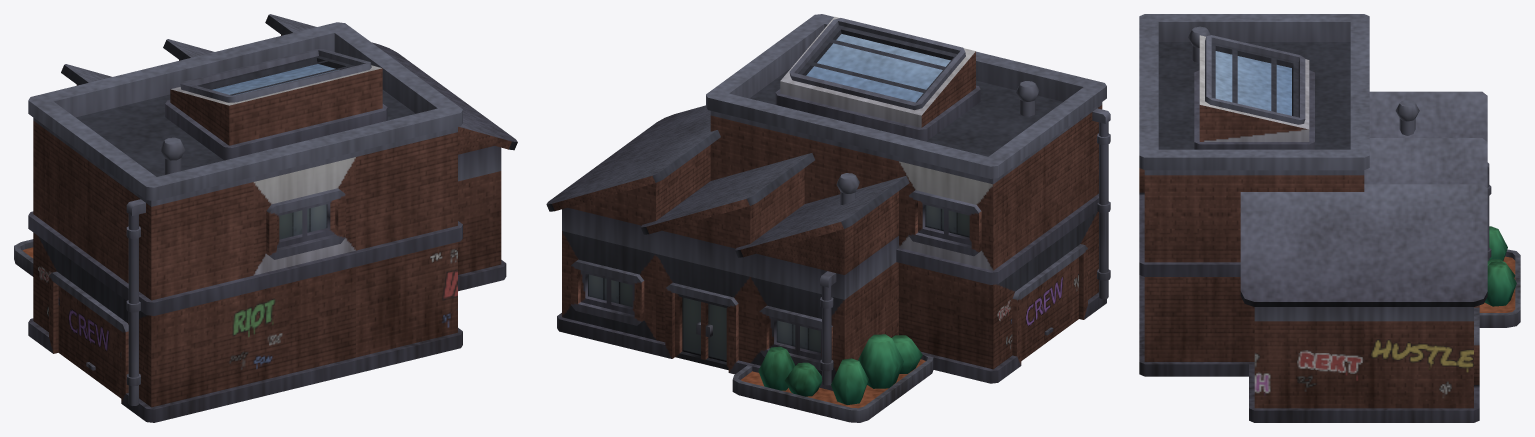
The model's file is building-t-brown-scuffed.glb.
3 renders of one model, left to right at view 1: azimuth 30°, elevation 25°; view 2: azimuth 150°, elevation 25°; view 3: azimuth 270°, elevation 25°, orthographic. The views are drawn at different scales.
Visible parts, largest first — view 1: building-t; view 2: building-t; view 3: building-t.
Boxes of the visible parts, x1,y1,x2,y2 form: building-t: [14, 14, 517, 422]; building-t: [546, 14, 1110, 422]; building-t: [1139, 14, 1520, 422].
Size of the model in its own units: 1.72 by 1.01 by 1.39.
Materials: 1 (1 with a texture image).
